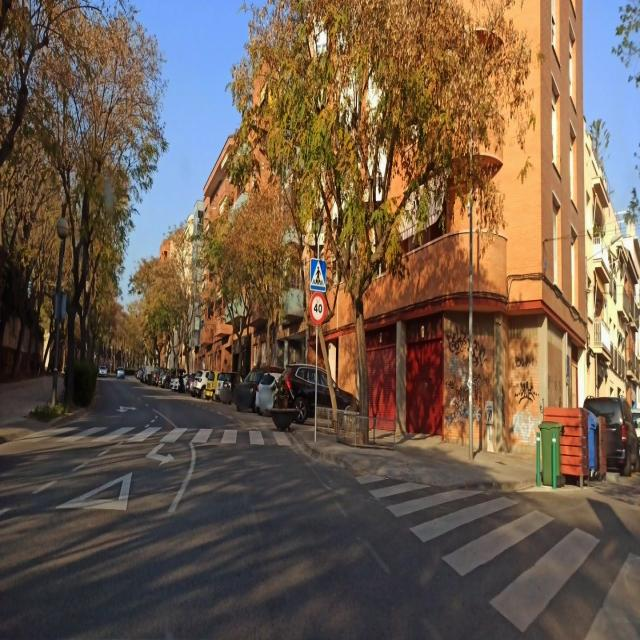car: (274, 362, 353, 422), (584, 394, 640, 477), (234, 369, 268, 411), (255, 371, 283, 415), (216, 371, 241, 403), (191, 370, 213, 398), (632, 408, 640, 467), (171, 370, 186, 392), (182, 372, 196, 392), (158, 369, 171, 387), (150, 368, 160, 386), (142, 368, 152, 384), (98, 364, 108, 377), (136, 367, 144, 381), (117, 365, 125, 379)
